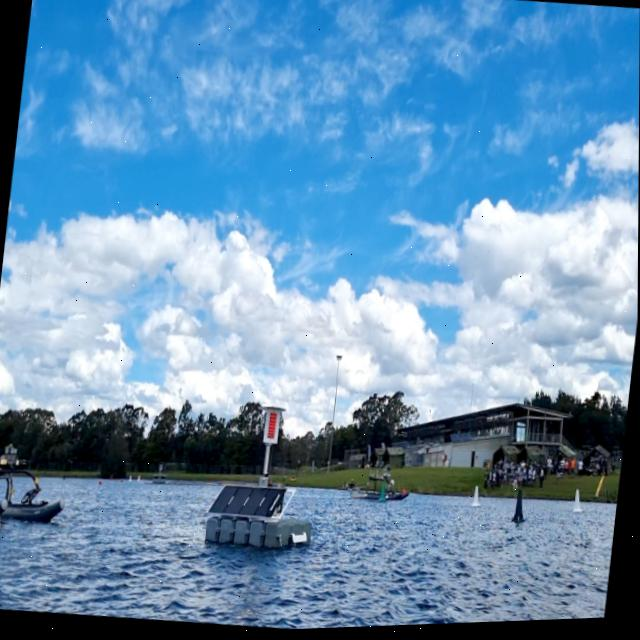led: (264, 411, 280, 445)
